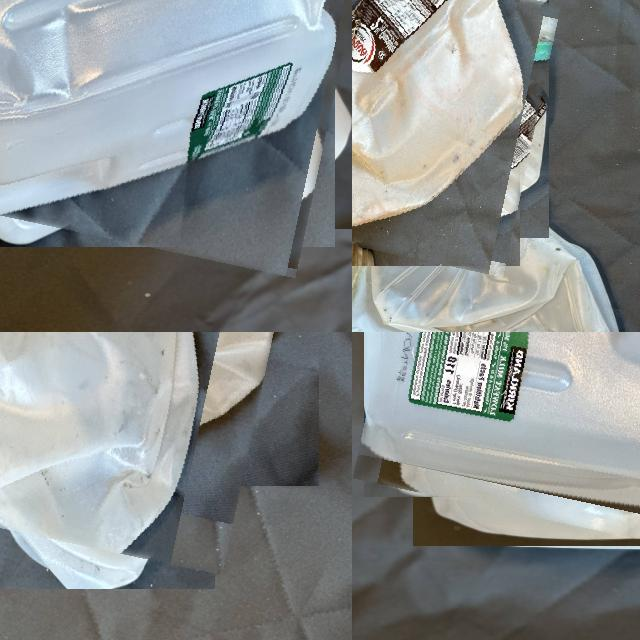milk-jug: (0, 0, 352, 258), (0, 332, 285, 556), (369, 332, 640, 539), (352, 0, 546, 265), (352, 191, 632, 332)
